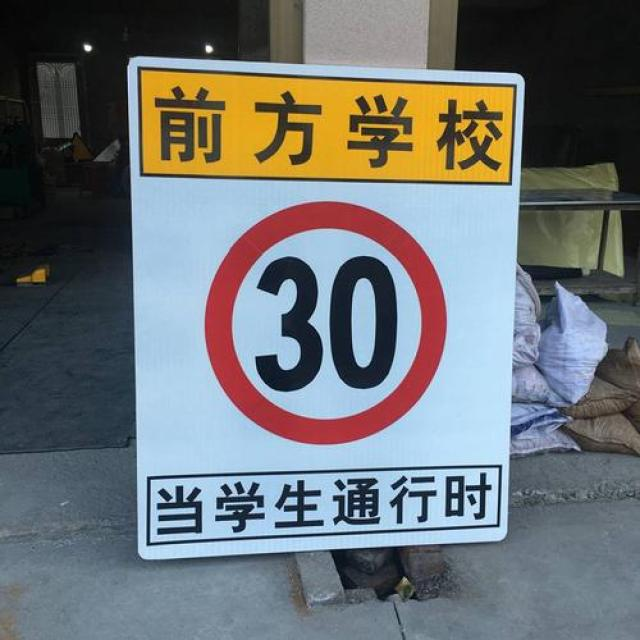speed limit 30: (204, 202, 447, 448)
